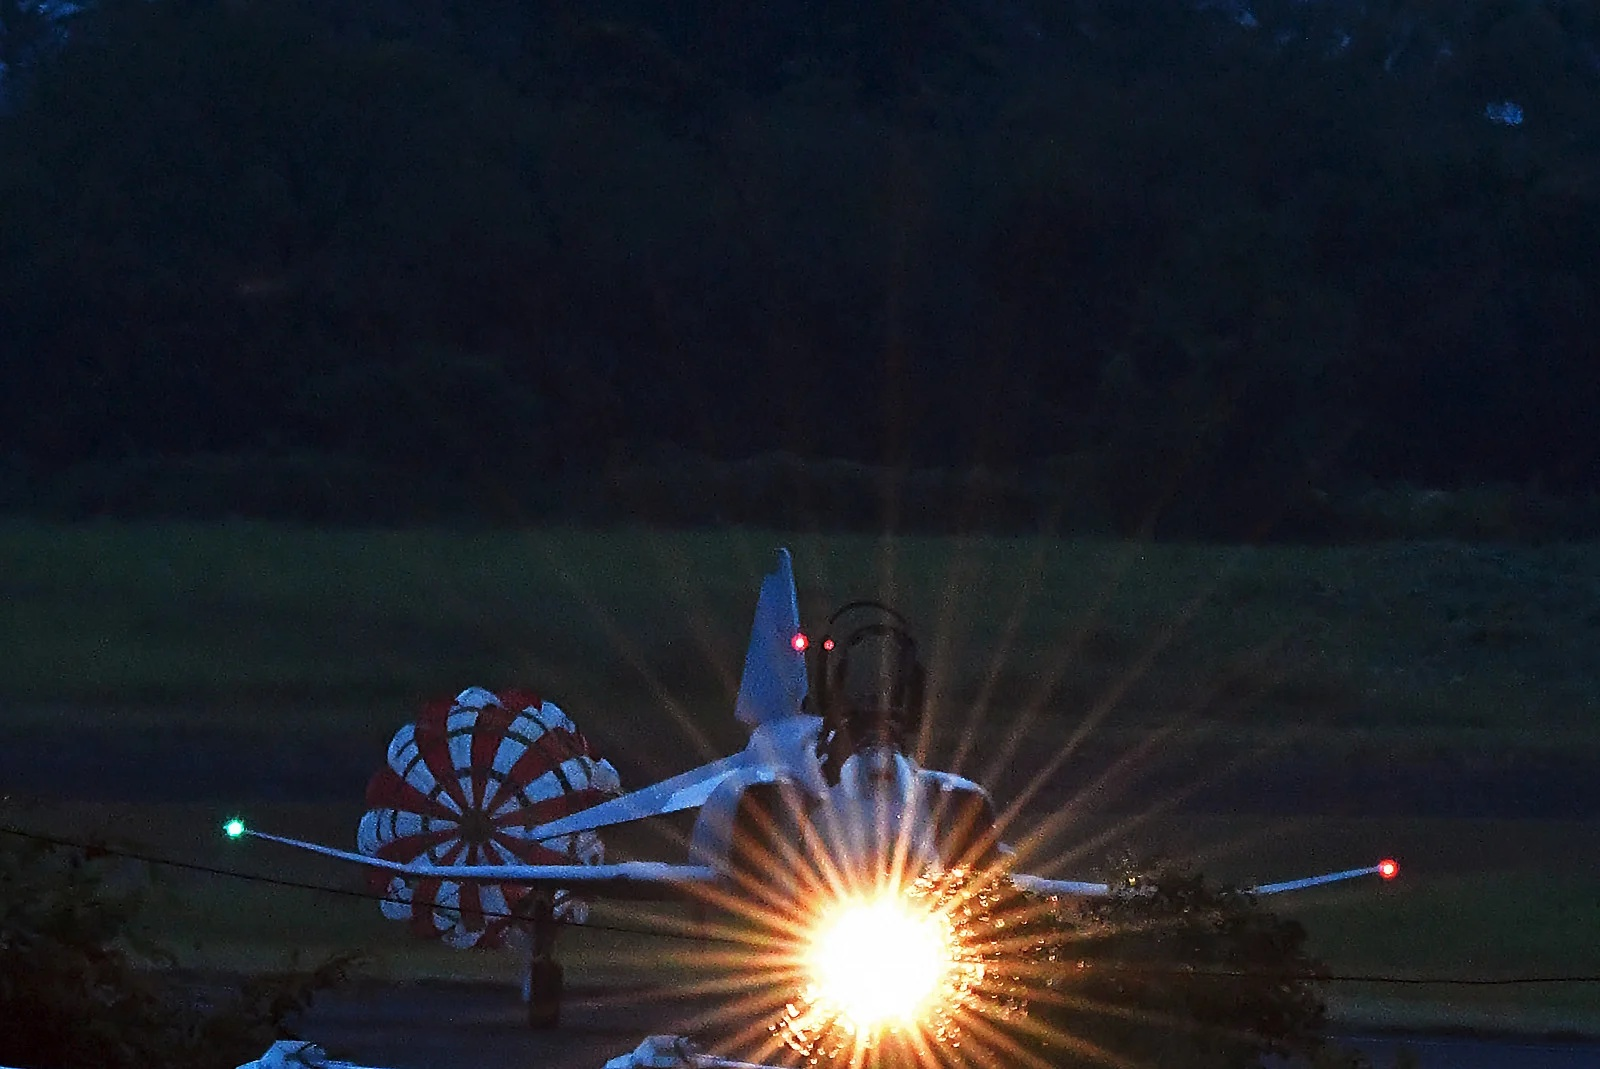F4: (223, 546, 1400, 1030)
